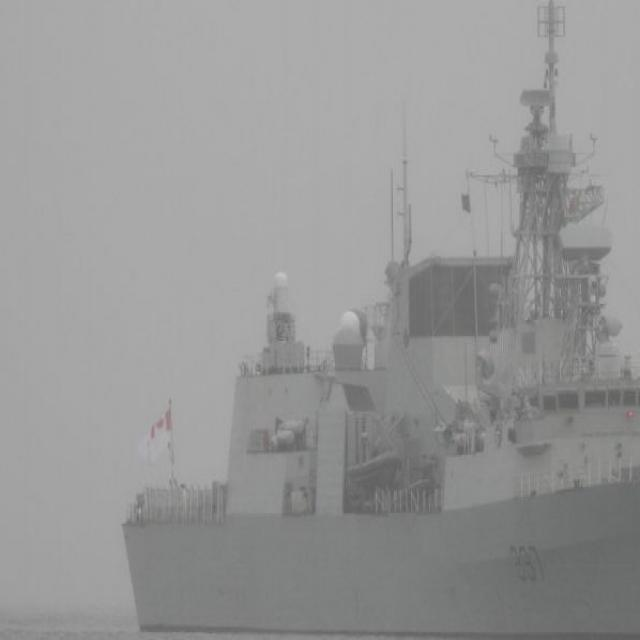Fragata: (117, 1, 640, 640)
